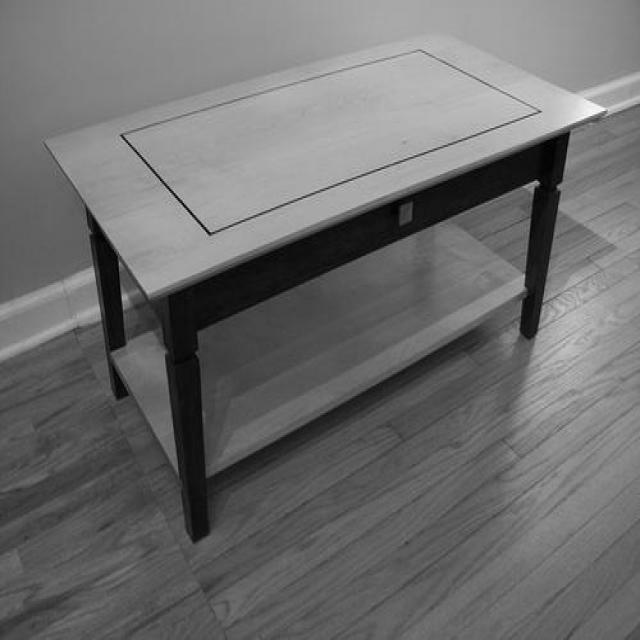table: (44, 32, 612, 540)
